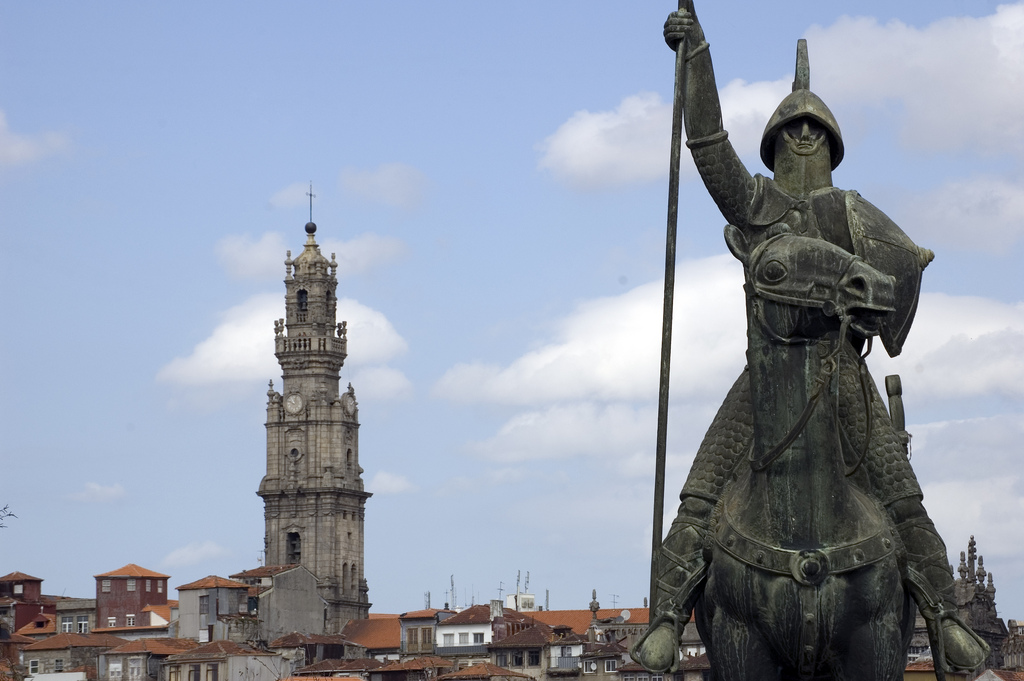clerigos: (248, 181, 375, 616)
